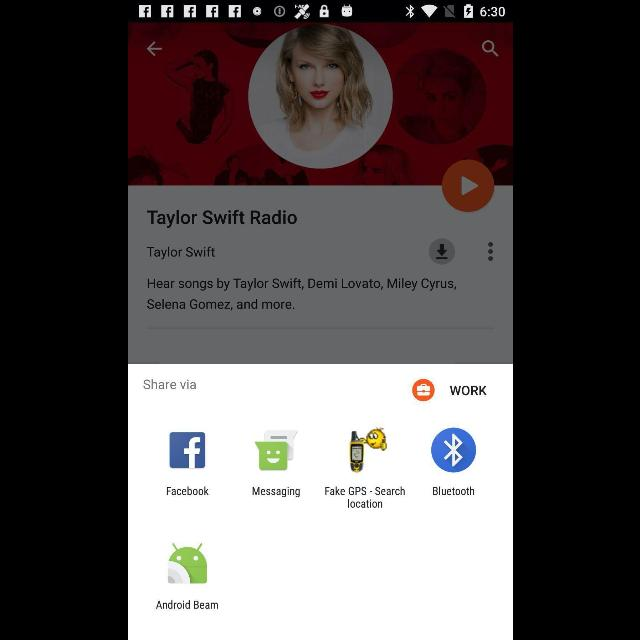button: (441, 160, 494, 212), (428, 238, 454, 266)
icon: (430, 428, 476, 472), (169, 432, 205, 468), (412, 378, 434, 402), (480, 41, 498, 58), (146, 41, 162, 57), (486, 242, 492, 262)
image: (128, 23, 512, 186), (348, 427, 386, 473), (167, 542, 207, 584), (254, 430, 296, 470)
panel: (128, 364, 512, 640)
text: (146, 278, 456, 312), (147, 210, 297, 228), (324, 486, 404, 508), (146, 246, 214, 260), (155, 600, 217, 610), (142, 378, 195, 389), (251, 487, 299, 498), (432, 486, 474, 496), (166, 486, 208, 496), (449, 386, 486, 396)
uppertaskbar: (128, 1, 512, 23)
